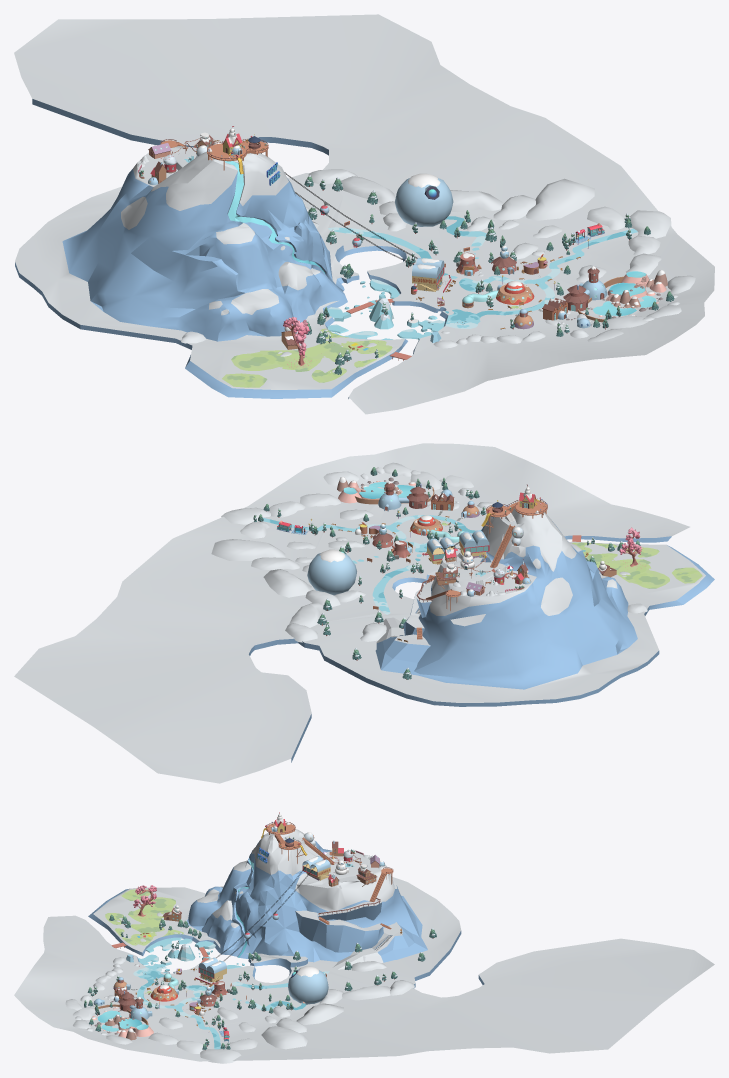
File: Individual_PudgyPeaks_03.fbx
3 renders of one model, top to bottom at view 1: azimuth 30°, elevation 25°; view 2: azimuth 150°, elevation 25°; view 3: azimuth 270°, elevation 25°, orthographic. The views are drawn at different scales.
Parts seen in each view (by area): view 1: sweep4, pCube290, pasted__pasted__Object_IceRock19, SnowPatch23, pCube68, polySurface127, pCube264, pCube272, polySurface72, SnowPatch18, SnowPatch56, SnowPatch60 (+1 smaller); view 2: sweep4, pCube525, pCube290, SnowPatch23, polySurface127, SnowPatch18, pCube68, pCube264, polySurface124, pCube272, SnowPatch60, SnowPatch56; view 3: sweep4, pCube525, pasted__pasted__Object_IceRock19, pCube290, SnowPatch23, pCube68, polySurface127, SnowPatch18, pCube264, SnowPatch60, polySurface72, polySurface124 (+2 smaller).
Part boxes in pixels (x1=…): sweep4: x1=14, y1=14, x2=714, y2=414; pCube290: x1=395, y1=173, x2=453, y2=226; pasted__pasted__Object_IceRock19: x1=327, y1=279, x2=444, y2=342; SnowPatch23: x1=526, y1=178, x2=594, y2=220; pCube68: x1=581, y1=270, x2=667, y2=318; polySurface127: x1=207, y1=126, x2=268, y2=170; pCube264: x1=563, y1=266, x2=607, y2=311; pCube272: x1=462, y1=280, x2=534, y2=308; polySurface72: x1=412, y1=258, x2=444, y2=291; SnowPatch18: x1=450, y1=190, x2=503, y2=212; SnowPatch56: x1=628, y1=210, x2=671, y2=238; SnowPatch60: x1=341, y1=176, x2=395, y2=204; sweep4: x1=14, y1=443, x2=714, y2=783; pCube525: x1=375, y1=569, x2=438, y2=675; pCube290: x1=307, y1=549, x2=356, y2=595; SnowPatch23: x1=211, y1=539, x2=285, y2=560; polySurface127: x1=486, y1=484, x2=547, y2=533; SnowPatch18: x1=263, y1=569, x2=311, y2=597; pCube68: x1=337, y1=476, x2=424, y2=503; pCube264: x1=378, y1=481, x2=428, y2=509; polySurface124: x1=459, y1=530, x2=489, y2=557; pCube272: x1=410, y1=515, x2=464, y2=542; SnowPatch60: x1=289, y1=603, x2=323, y2=627; SnowPatch56: x1=221, y1=507, x2=270, y2=524; sweep4: x1=14, y1=829, x2=714, y2=1061; pCube525: x1=295, y1=898, x2=427, y2=969; pasted__pasted__Object_IceRock19: x1=126, y1=937, x2=244, y2=971; pCube290: x1=288, y1=966, x2=328, y2=1004; SnowPatch23: x1=261, y1=1026, x2=307, y2=1049; pCube68: x1=91, y1=1007, x2=153, y2=1040; polySurface127: x1=265, y1=812, x2=301, y2=863; SnowPatch18: x1=296, y1=1003, x2=343, y2=1024; pCube264: x1=118, y1=991, x2=148, y2=1020; SnowPatch60: x1=342, y1=985, x2=390, y2=1000; polySurface72: x1=198, y1=957, x2=226, y2=982; polySurface124: x1=302, y1=856, x2=330, y2=880.
Size of the model in its own units: 20153 by 5679 by 30665.
